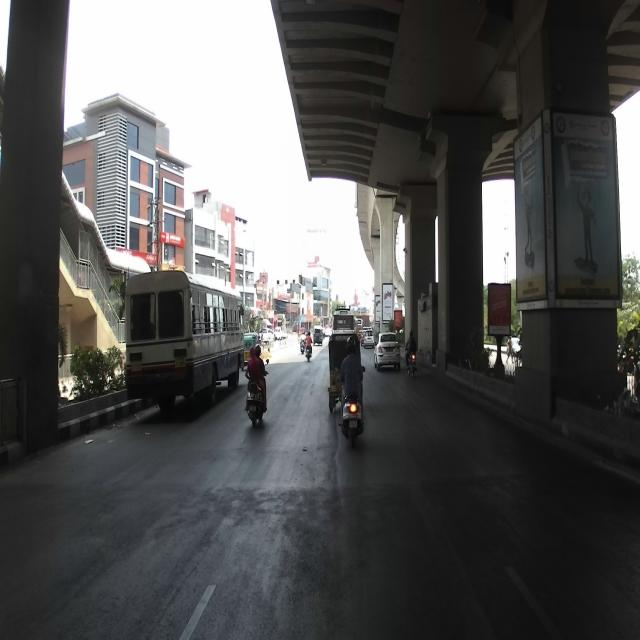Car_Maruti-Suzuki: (373, 331, 403, 371)
bus: (124, 268, 243, 412)
scooter: (334, 365, 370, 447), (246, 358, 269, 427)
